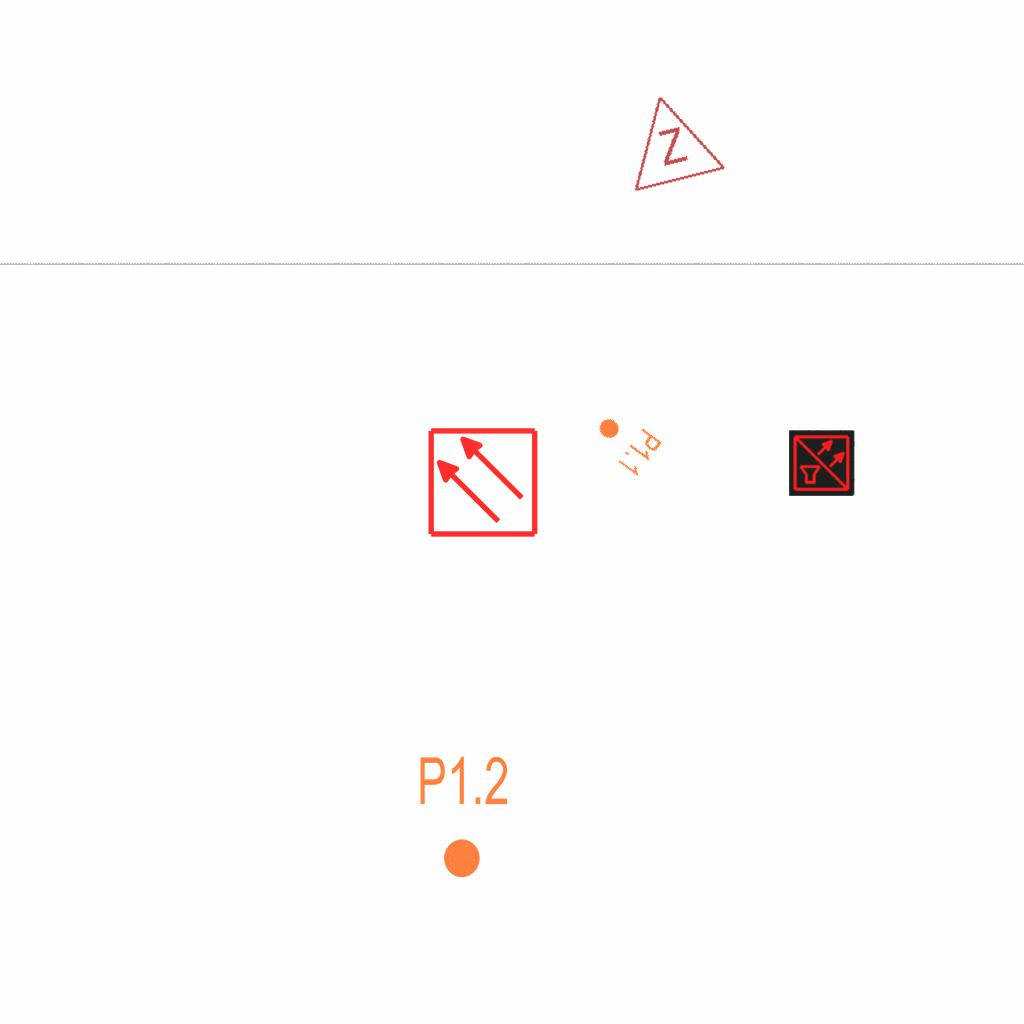Downlight_LED_Einbauleuchten_Flur: (417, 753, 510, 881), (585, 404, 665, 480)
OKW_Multisensormelder_(Kombination_optischer_Rauch-Kahlenmonoxid_Waerme-Melder): (789, 430, 855, 496)
RMO_Rauchmelder_optischer: (426, 426, 539, 539)
Zimmersignalleuchte: (609, 78, 729, 200)
